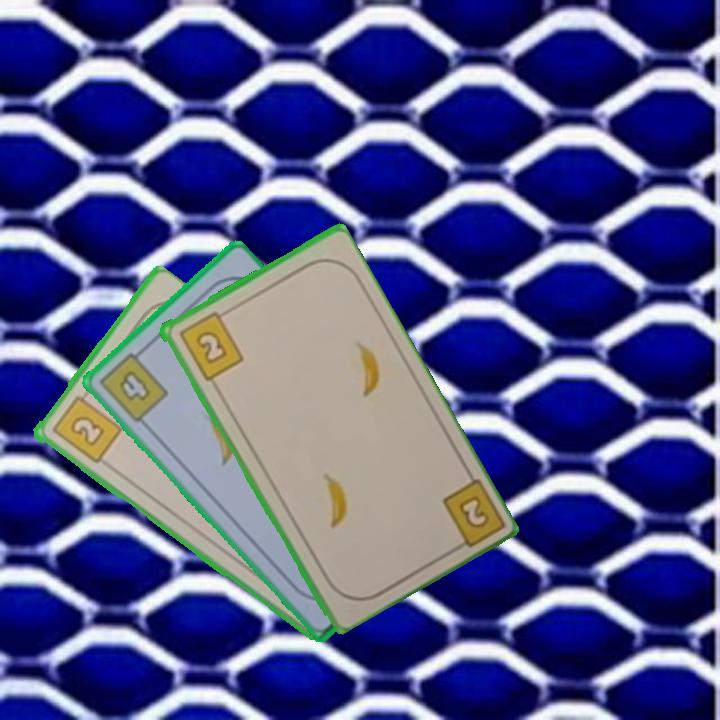2b: (48, 386, 124, 467), (438, 473, 505, 556), (175, 306, 246, 384)
4b: (95, 344, 171, 426)
